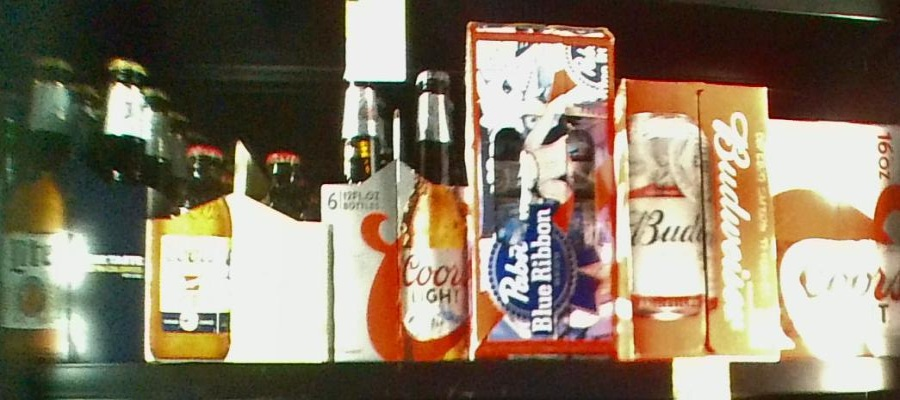bottle: (467, 25, 617, 362), (618, 73, 779, 355), (332, 59, 471, 362), (9, 55, 146, 360), (147, 140, 331, 362), (773, 117, 900, 358)
